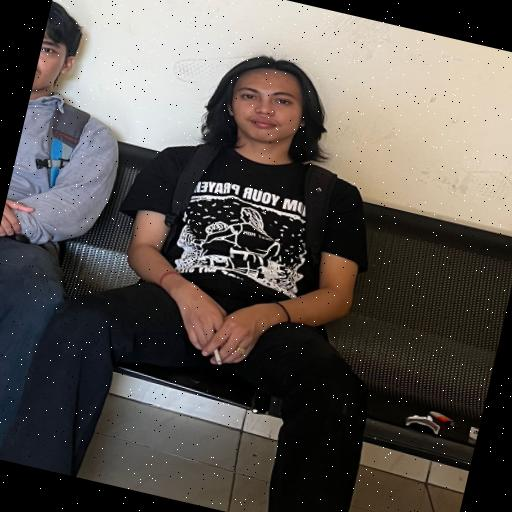pegang rokok: (154, 272, 284, 395)
